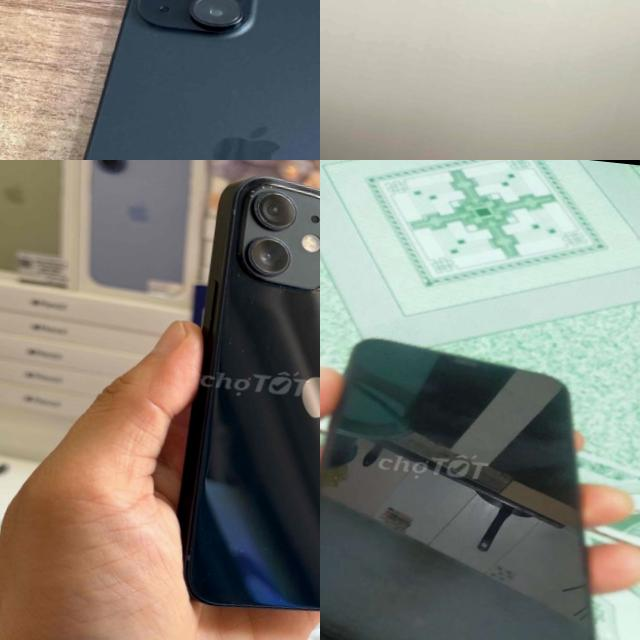gen_11: (320, 311, 640, 640)
gen_12_13: (172, 166, 320, 623)
gen_15: (5, 0, 320, 160)
